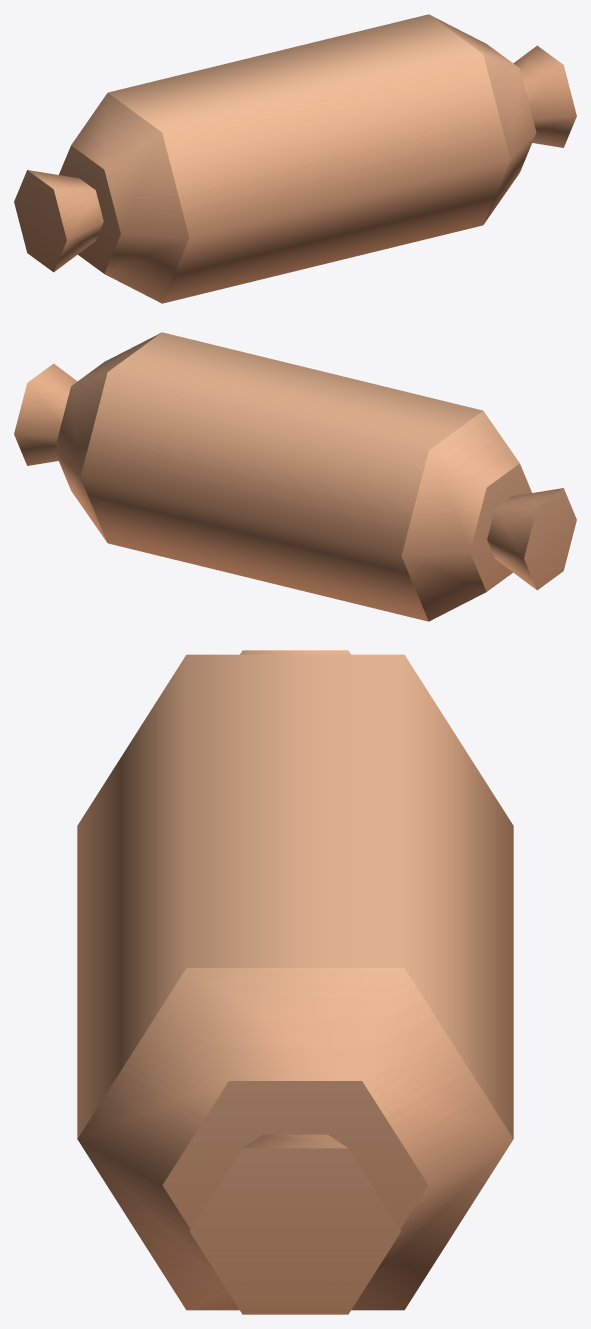
File: cc0-sausage-lod0.glb
The picture shows the model from 3 angles, top to bottom: view 1: azimuth 30°, elevation 25°; view 2: azimuth 150°, elevation 25°; view 3: azimuth 270°, elevation 25°; orthographic projection. The views are drawn at different scales.
Visible parts, largest first — view 1: part_0; view 2: part_0; view 3: part_0.
Part boxes in pixels (x1,y1,x2,y2): part_0: [14, 14, 576, 303]; part_0: [14, 332, 576, 621]; part_0: [77, 650, 513, 1314].
Bounding box in the file's own units: 0.3707 × 0.1189 × 0.1373.
Materials: 1 (1 with a texture image).
